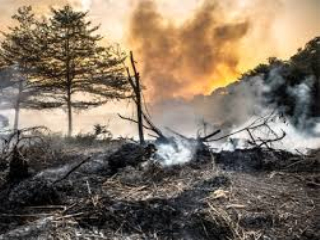smoke: (121, 6, 250, 92), (145, 133, 194, 169)
